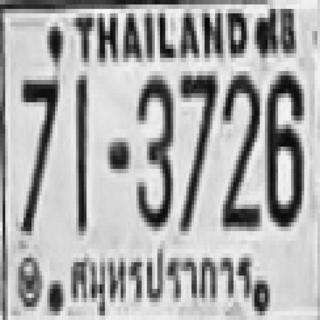N01: (75, 75, 88, 231)
N02: (220, 71, 257, 227)
N03: (134, 71, 171, 227)
N06: (265, 71, 302, 222)
N07: (178, 73, 215, 229), (20, 75, 56, 231)
P57: (65, 243, 256, 315)
